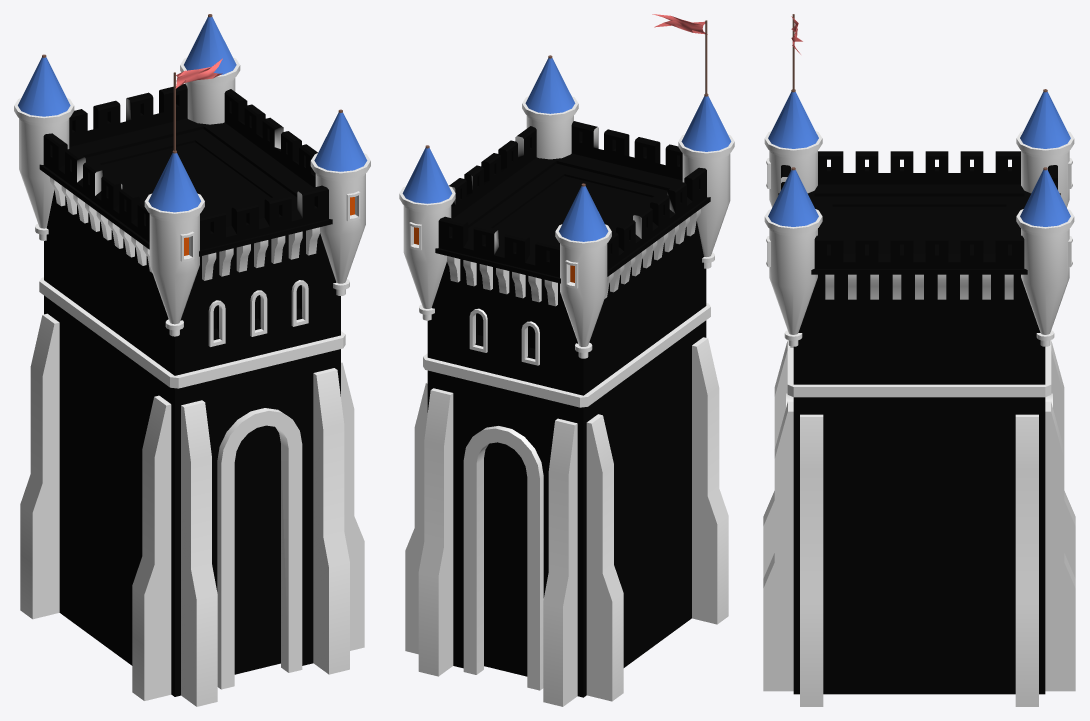
Rendered from citadel_tower_b.FBX.
The picture shows the model from 3 angles, left to right: view 1: azimuth 30°, elevation 25°; view 2: azimuth 150°, elevation 25°; view 3: azimuth 270°, elevation 25°; orthographic projection. The views are drawn at different scales.
Parts seen in each view (by area): view 1: citadel_tower_b_LOD0; view 2: citadel_tower_b_LOD0; view 3: citadel_tower_b_LOD0.
Part boxes in pixels (x1,y1,x2,y2): citadel_tower_b_LOD0: (14, 14, 370, 706); citadel_tower_b_LOD0: (399, 14, 734, 706); citadel_tower_b_LOD0: (763, 14, 1075, 706).
Size of what is drawn, in the model's own units: 1458 by 3954 by 1858.
